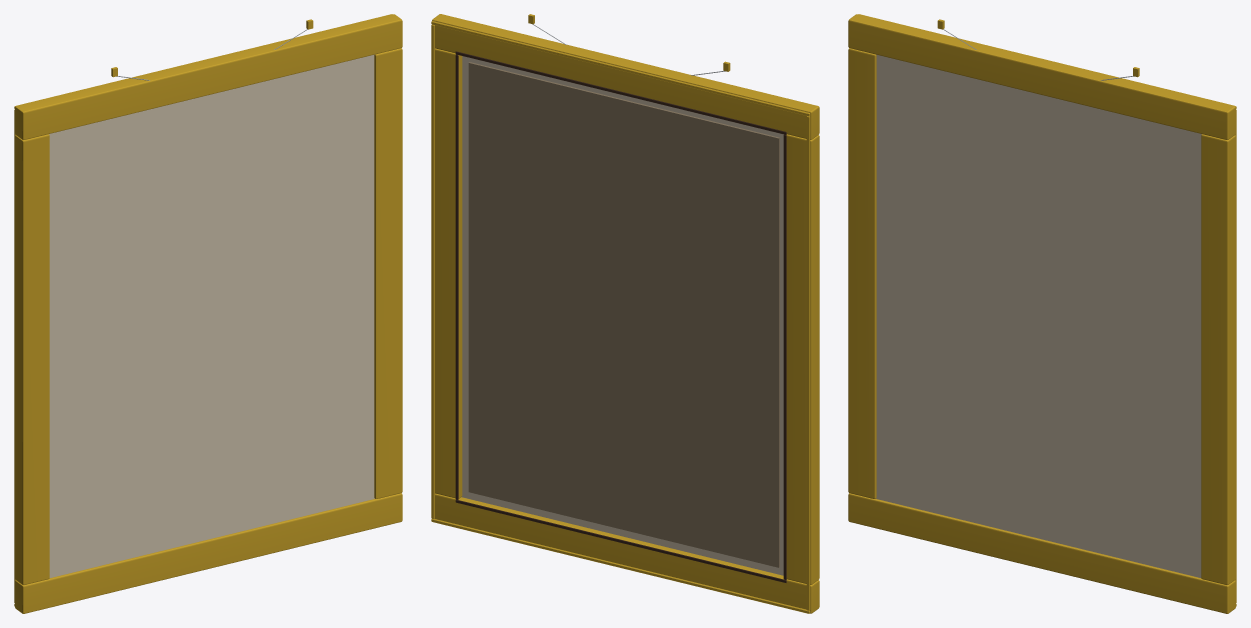
File: prop_canvas_lantern.glb
3 renders of one model, left to right at view 1: azimuth 30°, elevation 25°; view 2: azimuth 150°, elevation 25°; view 3: azimuth 330°, elevation 25°, orthographic.
Parts seen in each view (by area): view 1: Canvas; view 2: Paint, Canvas; view 3: Canvas.
Boxes of the visible parts, x1=… form: Canvas: x1=14, y1=14, x2=402, y2=613; Paint: x1=468, y1=62, x2=779, y2=567; Canvas: x1=431, y1=14, x2=819, y2=613; Canvas: x1=848, y1=14, x2=1236, y2=613.
Size of the model in its own units: 1.52 by 2 by 0.068.
